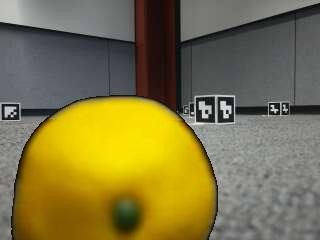lemon: (13, 97, 218, 240)
